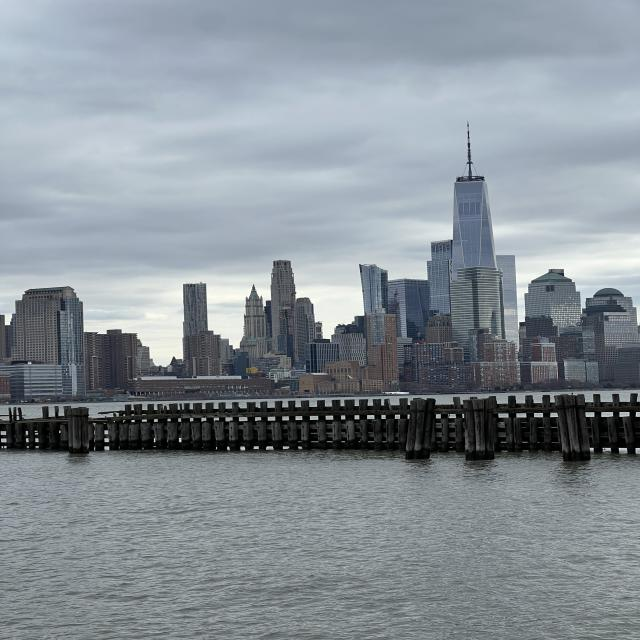WTC: (450, 120, 495, 270)
